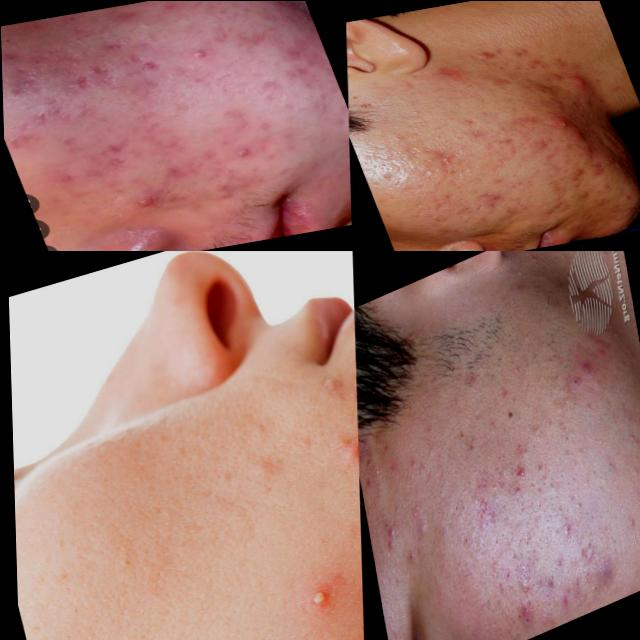8: (573, 334, 603, 391), (333, 416, 356, 480), (122, 188, 165, 218), (585, 549, 618, 585), (81, 56, 114, 80), (509, 598, 532, 630), (2, 49, 28, 67)
9: (278, 540, 360, 640), (180, 40, 219, 66), (230, 144, 256, 162), (569, 165, 589, 180)
blackheads: (94, 135, 137, 170), (58, 70, 100, 104), (529, 195, 579, 222), (476, 184, 513, 214), (562, 68, 598, 98), (430, 146, 469, 173), (511, 564, 535, 606), (130, 56, 162, 80), (157, 162, 188, 186), (550, 111, 577, 138)
dark spot: (454, 526, 477, 566), (542, 168, 572, 192), (371, 166, 401, 182)
